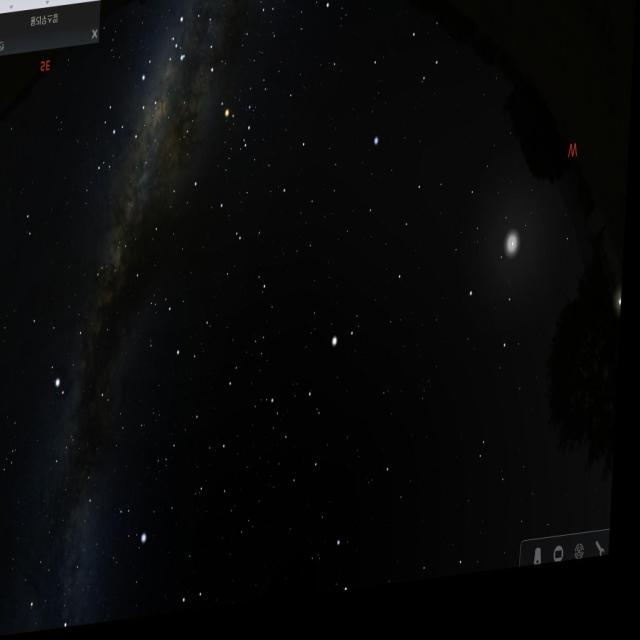aquila: (46, 255, 131, 427)
bootes: (273, 300, 375, 513)
lyra: (115, 498, 162, 556)
moon: (495, 220, 539, 298)
sagittarius: (81, 56, 171, 182)
scorpius: (165, 7, 264, 164)
